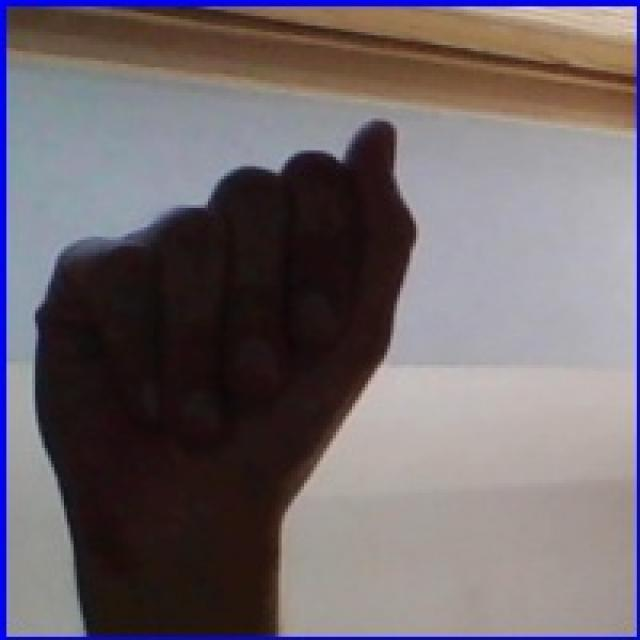Letra A: (31, 95, 421, 556)
